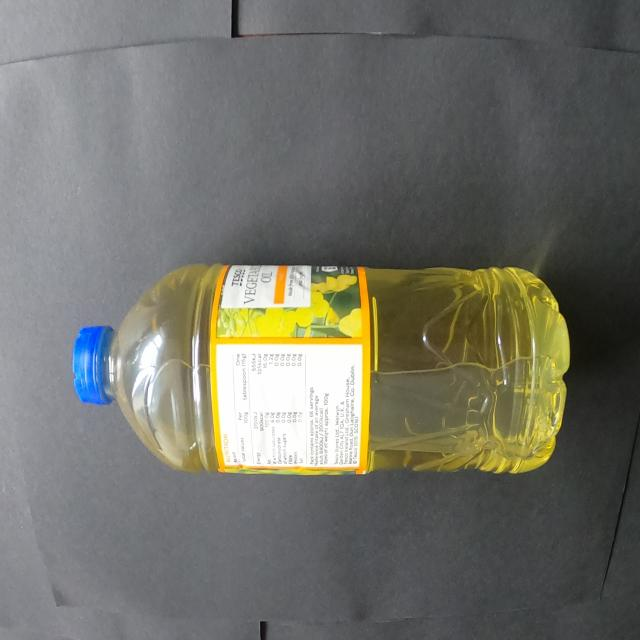Vegetableoil: (47, 210, 609, 489)
